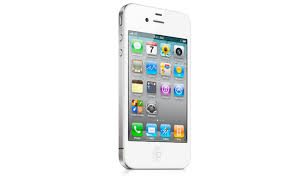iphone: (116, 1, 195, 175)
iphone4: (116, 1, 195, 174)
